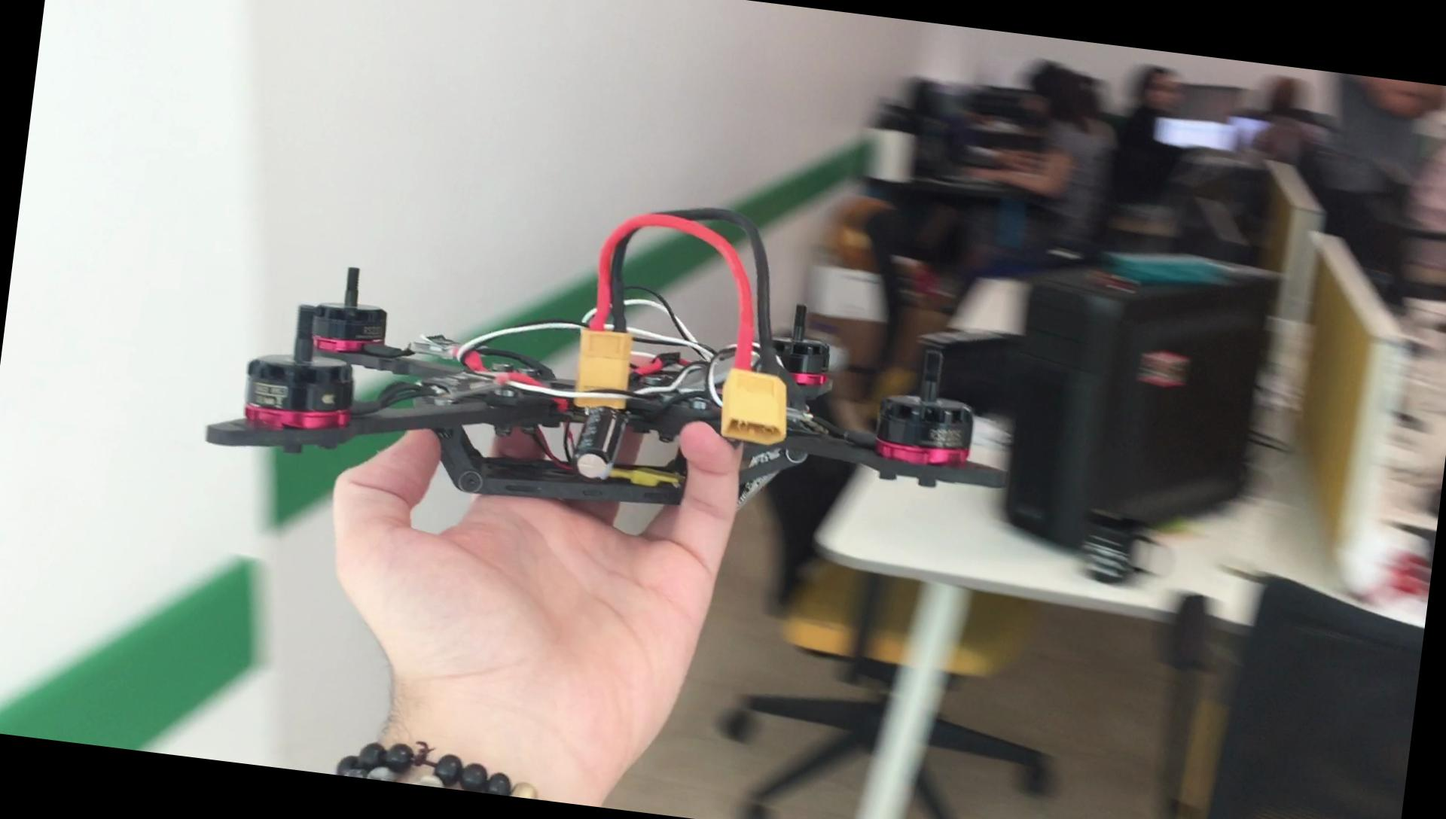drone: (178, 199, 1042, 565)
